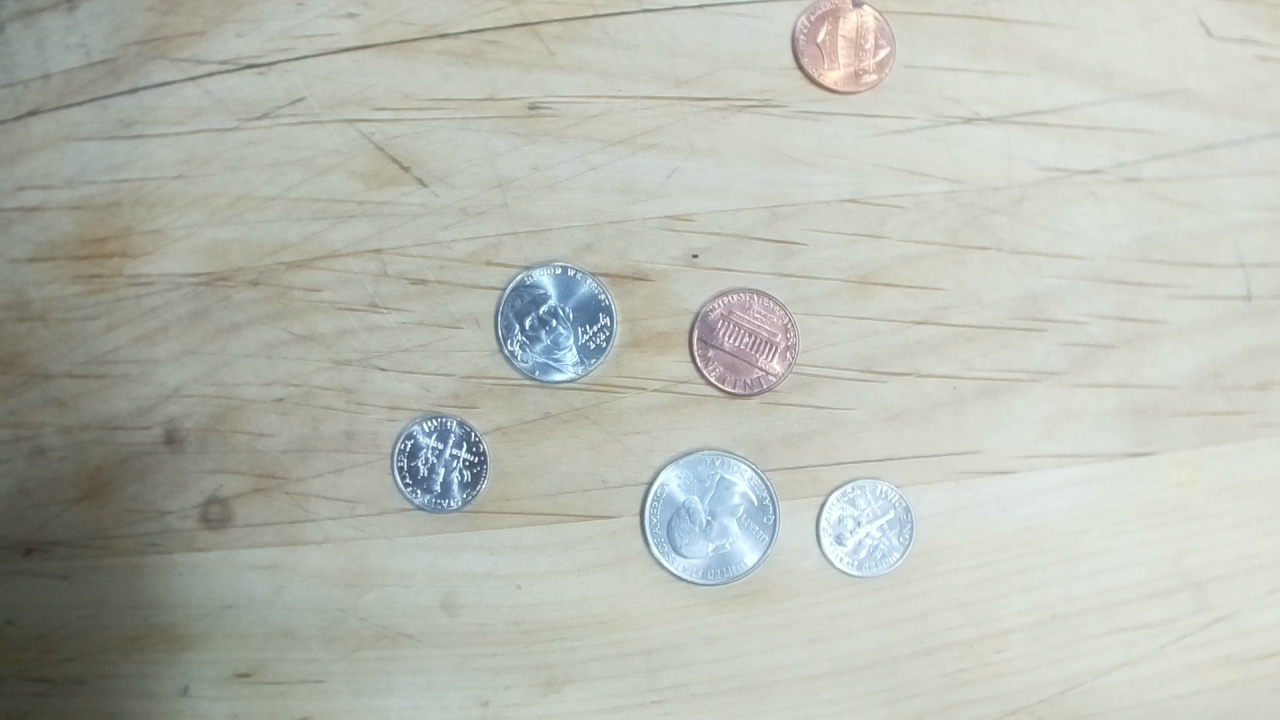dime: (814, 476, 916, 580), (390, 412, 490, 512)
nickel: (491, 252, 619, 394)
penny: (690, 283, 798, 397), (789, 1, 901, 95)
quarter: (638, 446, 780, 586)
